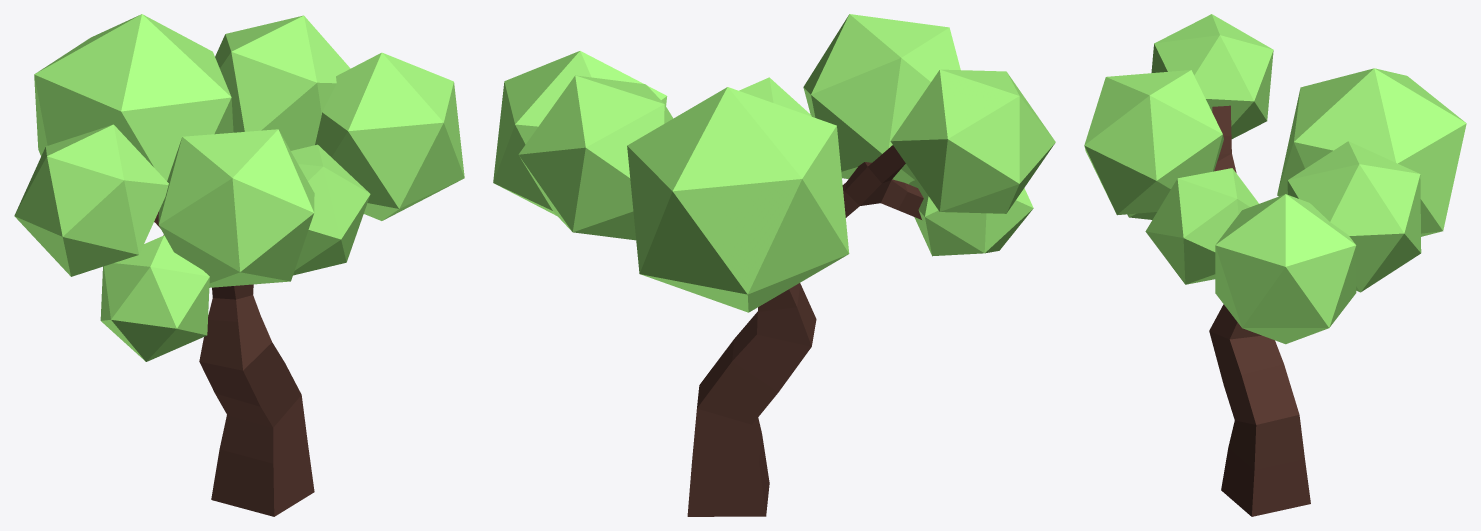
The model's file is Tree2.fbx.
3 renders of one model, left to right at view 1: azimuth 30°, elevation 25°; view 2: azimuth 150°, elevation 25°; view 3: azimuth 270°, elevation 25°, orthographic. The views are drawn at different scales.
Visible parts, largest first — view 1: Cube.002; view 2: Cube.002; view 3: Cube.002.
Part boxes in pixels (<box>): Cube.002: <box>14,14,464,516</box>; Cube.002: <box>493,14,1055,516</box>; Cube.002: <box>1084,14,1466,516</box>.
Bounding box in the file's own units: 607 × 565 × 486.
